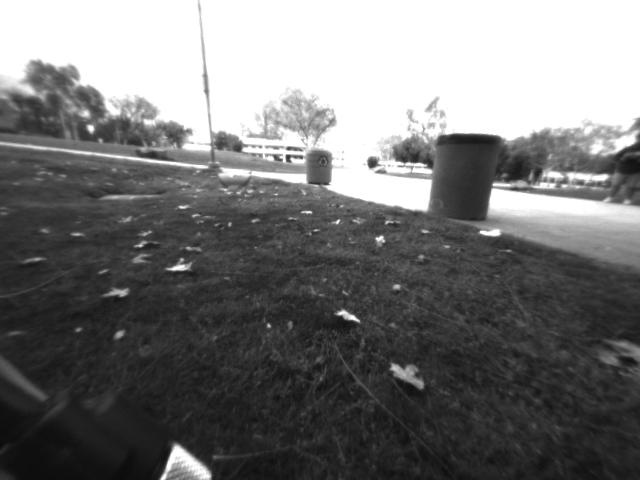trashcan: (424, 121, 512, 234), (301, 141, 337, 192)
